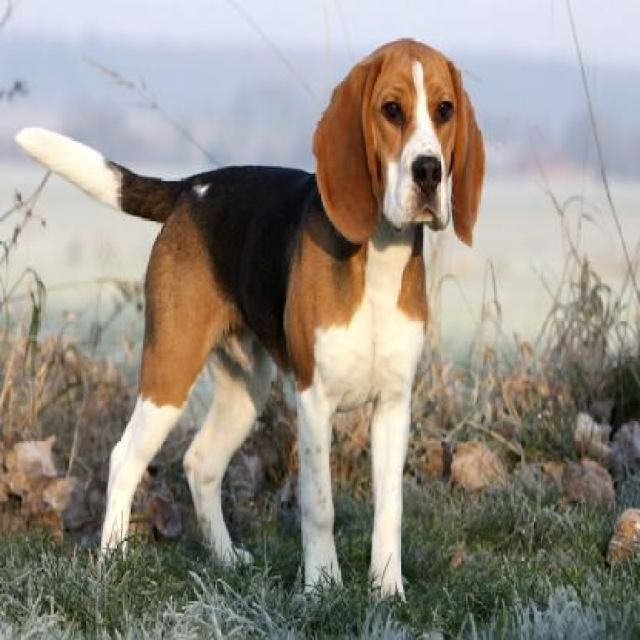Dog: (14, 40, 488, 605)
